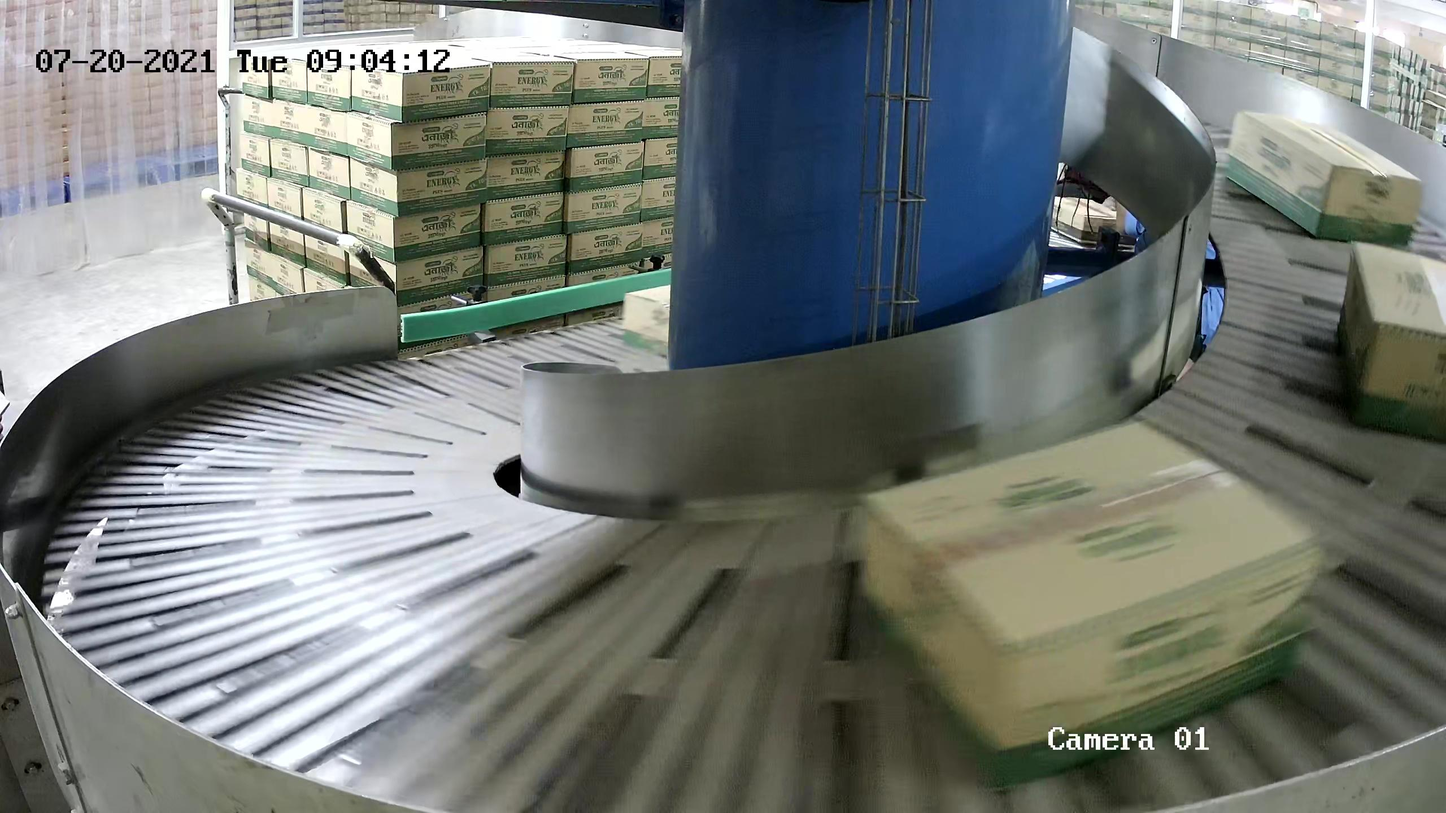Box: (854, 412, 1328, 793), (1221, 109, 1425, 250), (1335, 237, 1446, 446), (621, 283, 671, 359)
